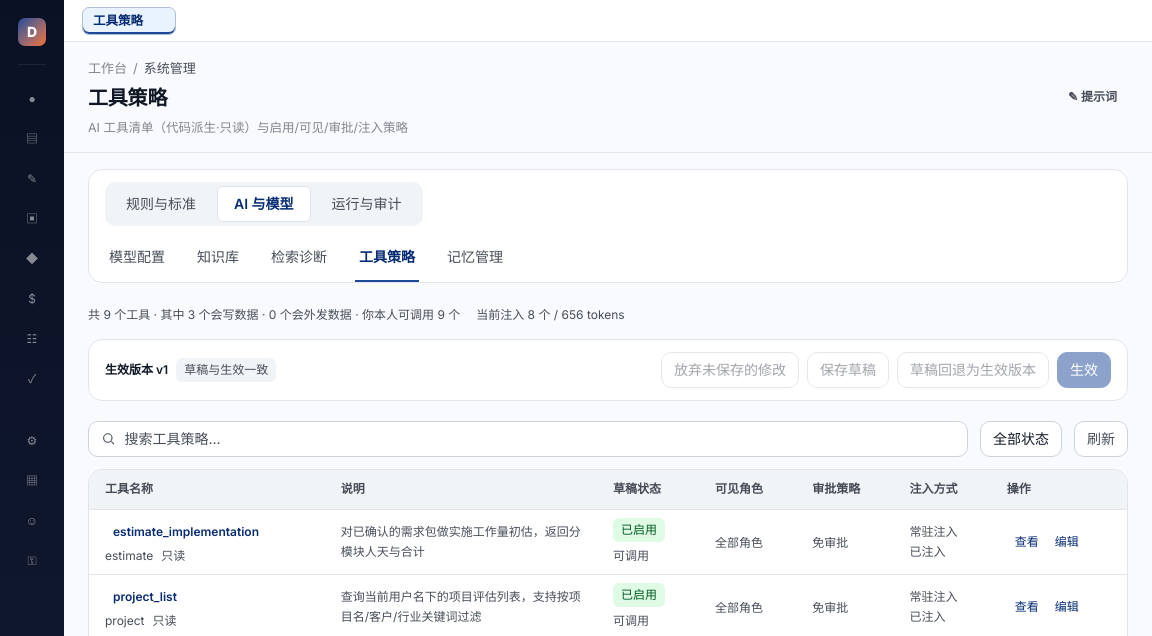
Test: System management AI tool policy (批次 6a 清单 + 6b 策略) › 批次6b返修①·未保存的编辑不得被「生效」静默丢弃：按钮禁用 + 明确提示 + 保存后才带上
The image size is (1152, 636).
Check: the button "project_list" is shown, box [105,583,185,611]
Check: the text "草稿与生效一致" is shown, box [176,358,276,382]
Step 1. Click the button "编辑" in the row of "查询当前用户名下的项目评估列表，支持按项目名/客户/行业关键词过滤" → (1067, 607), box [1047,591,1087,623]
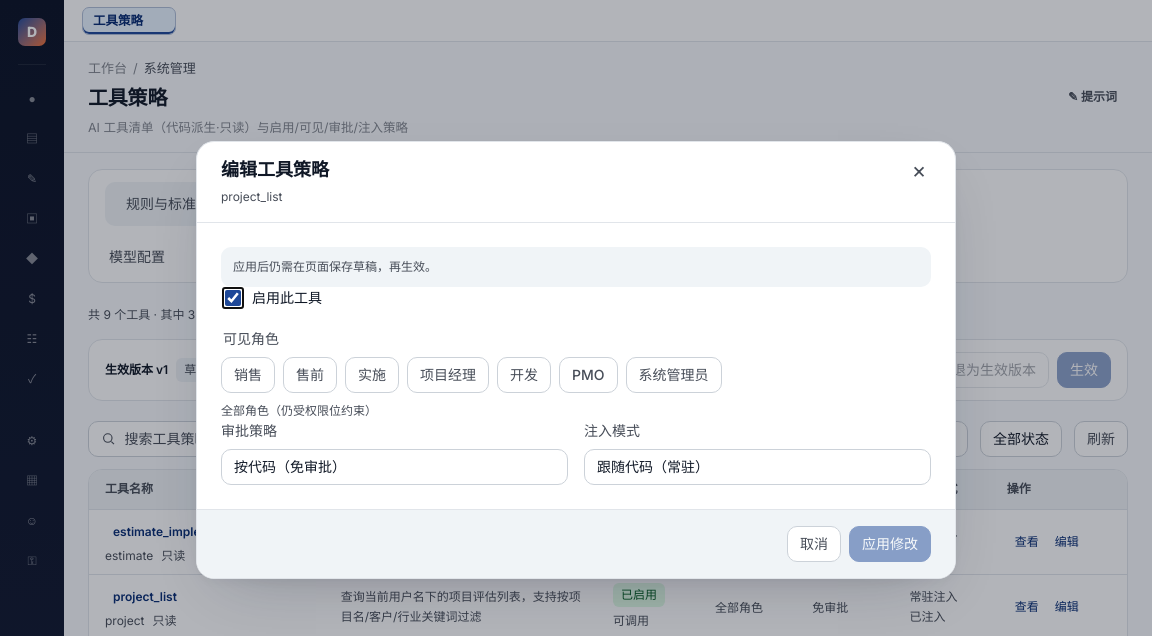
Step 2. Click the checkbox named "启用 project_list" → (233, 298), box [225,290,241,306]
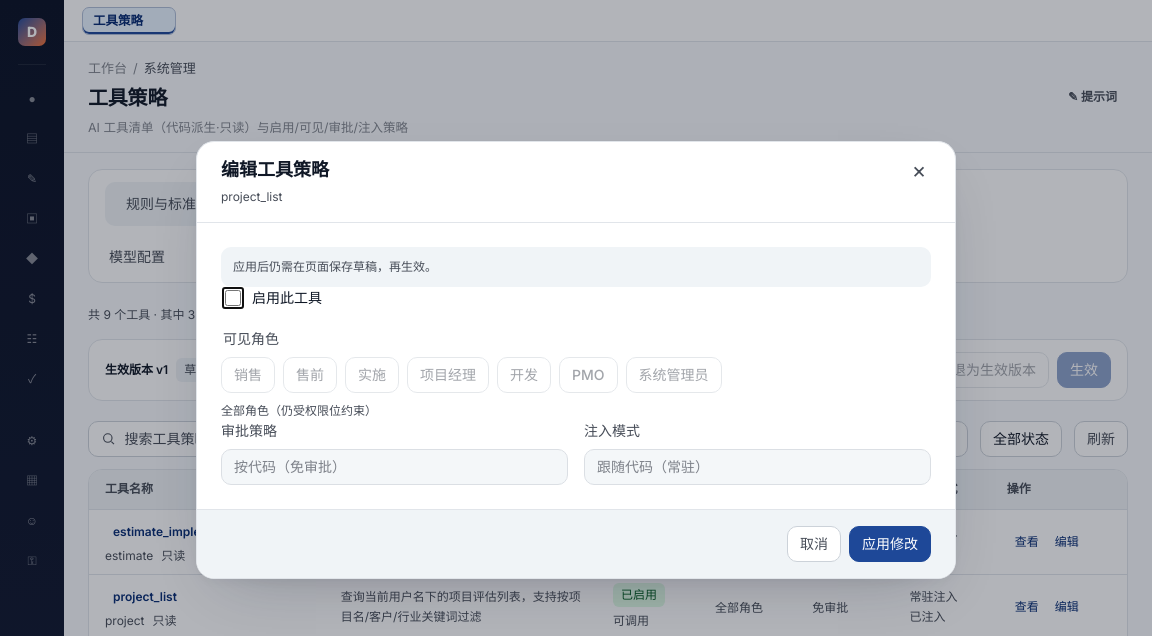
Step 3. Click the button "应用修改" → (890, 544), box [849,526,931,562]
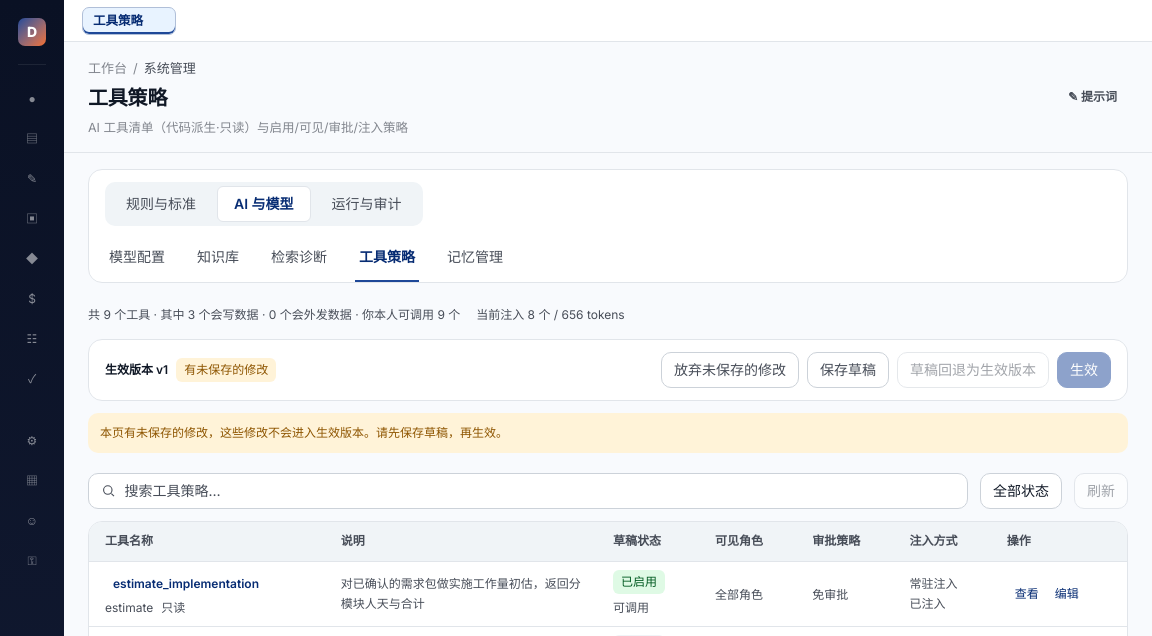
Check: the button "生效" is disabled, box [1057,352,1111,388]
Check: the text "有未保存的修改" is shown, box [176,358,276,382]
Check: the message shows "不会进入生效版本", box [100,424,508,440]
Step 4. Click the button "保存草稿" → (848, 370), box [807,352,889,388]
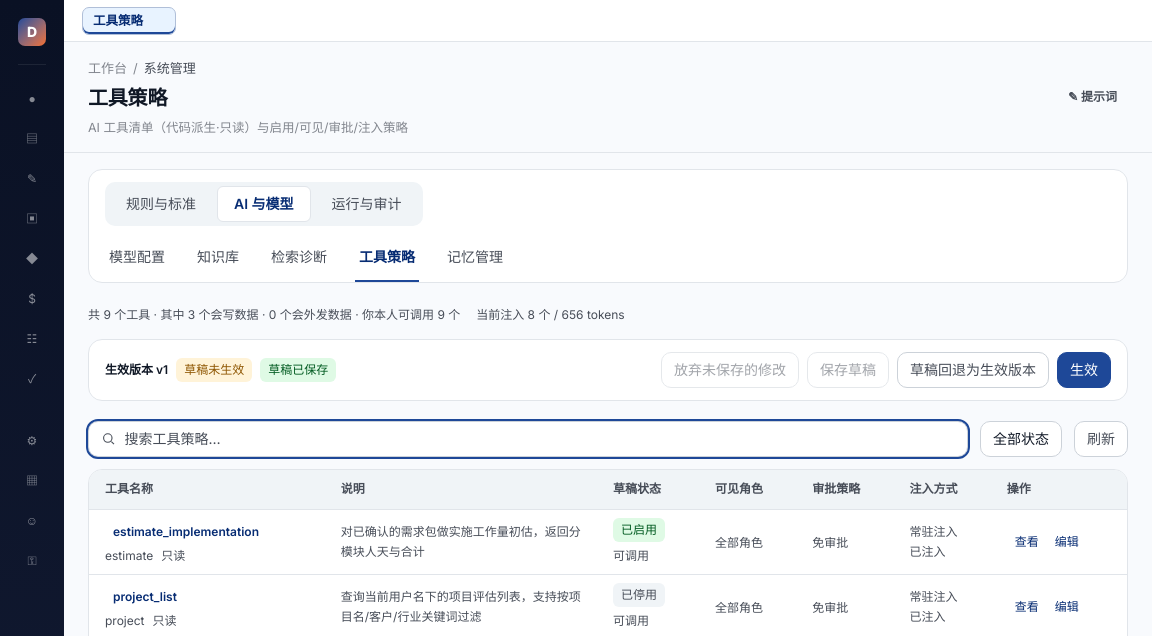
Check: the text "草稿未生效" is shown, box [176,358,252,382]
Check: the text "有未保存的修改" is gone
Check: the message "本页有未保存的修改，这些修改不会进入生效版本。请先保存草稿，再生效。" is gone
Step 5. Click the button "生效" → (1084, 370), box [1057,352,1111,388]
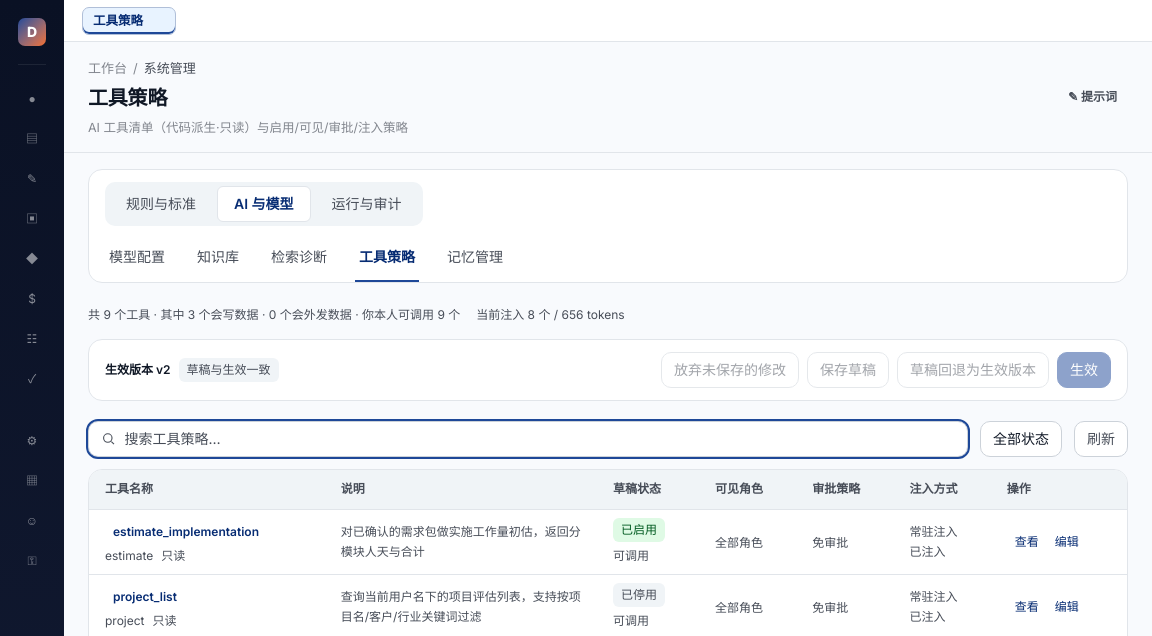
Check: the text "生效版本 v2" is shown, box [105,362,171,378]
Check: the text "草稿与生效一致" is shown, box [179,358,279,382]
